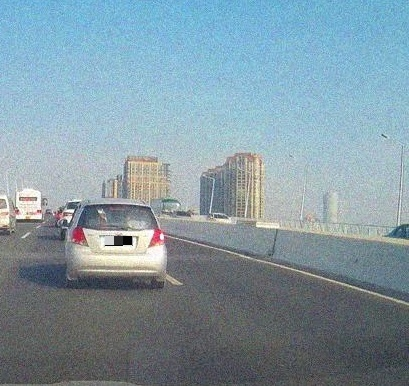L_light: (69, 227, 89, 247), (15, 209, 19, 213)
R_light: (148, 228, 165, 248), (37, 209, 42, 214)
T_light: (110, 206, 124, 209), (26, 191, 31, 193)
day-no: (15, 189, 42, 223)
day-right: (66, 197, 167, 288)
plate_1: (105, 236, 133, 246)
